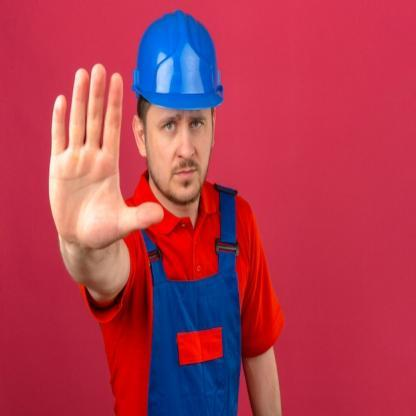stop: (49, 60, 166, 250)
